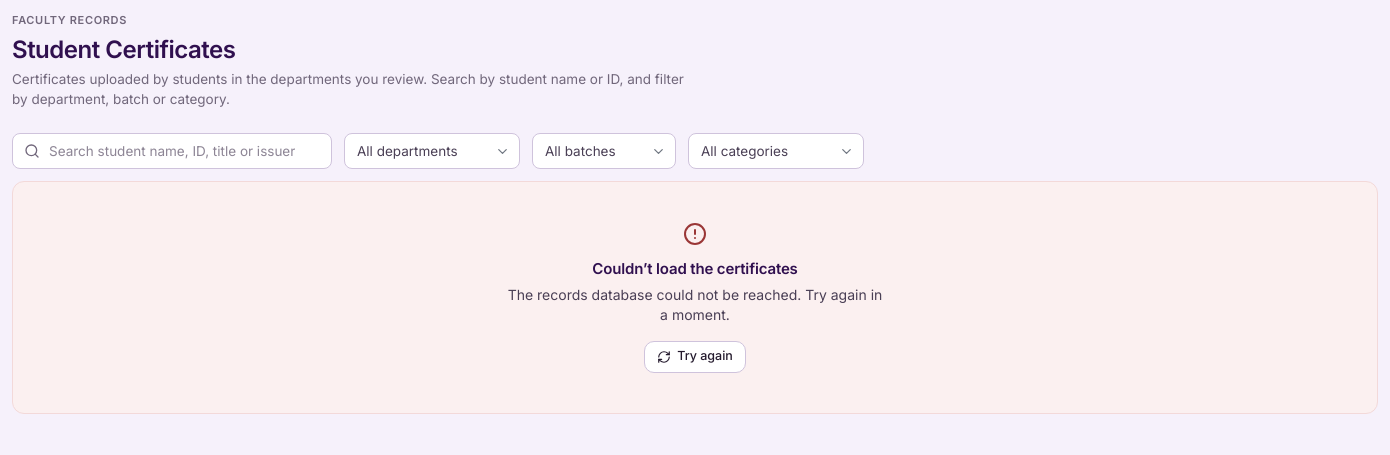
Test: faculty › see the server’s reason when it cannot answer, and can try again
Expected: the text "Couldn’t load the certificates" is shown, [592,258,798,280]
Expected: the text "records database could not be reached" is shown, [508,286,882,322]
Click the button "Try again" at (695, 356), box [644,340,746,372]
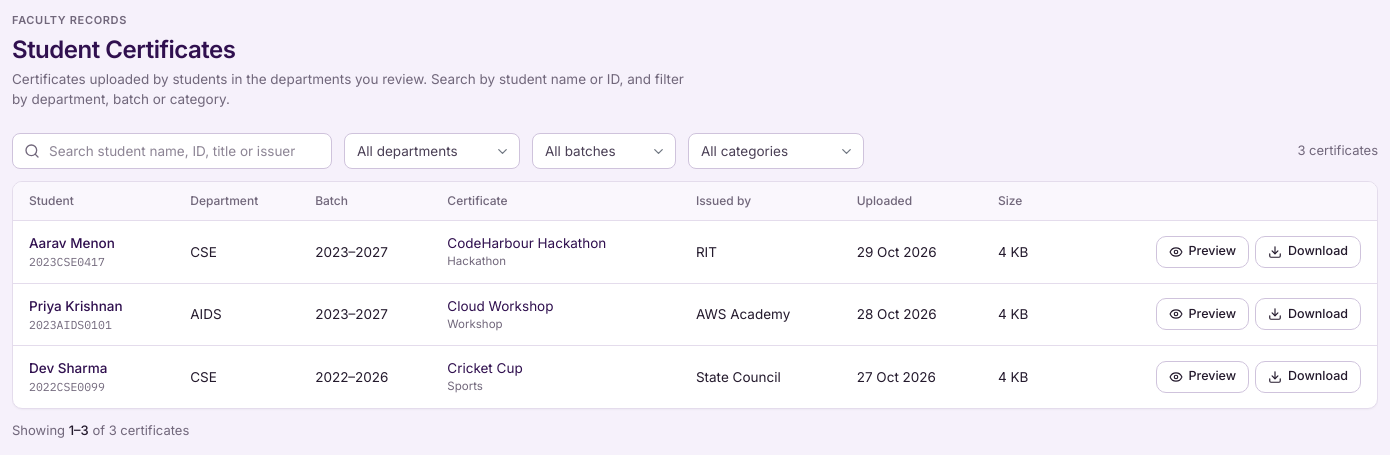
Now the text "Aarav Menon" is shown, box [29,235,115,251]
